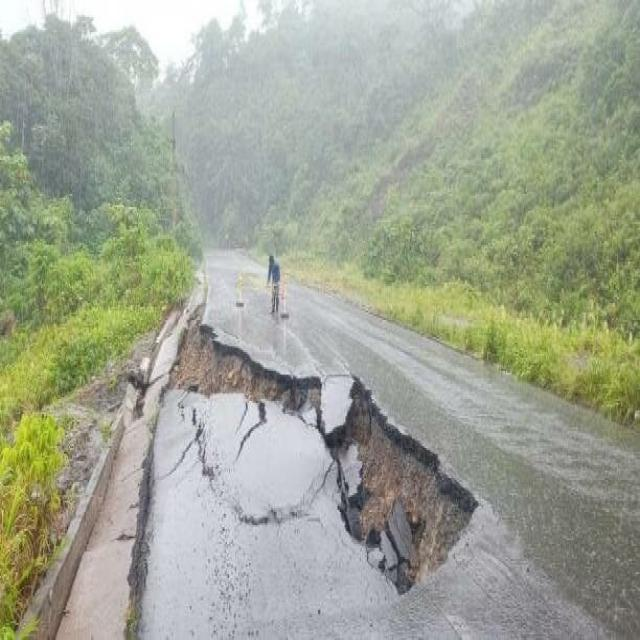Pothole: (170, 316, 468, 640)
